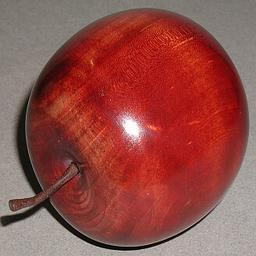apple: (23, 8, 250, 248)
